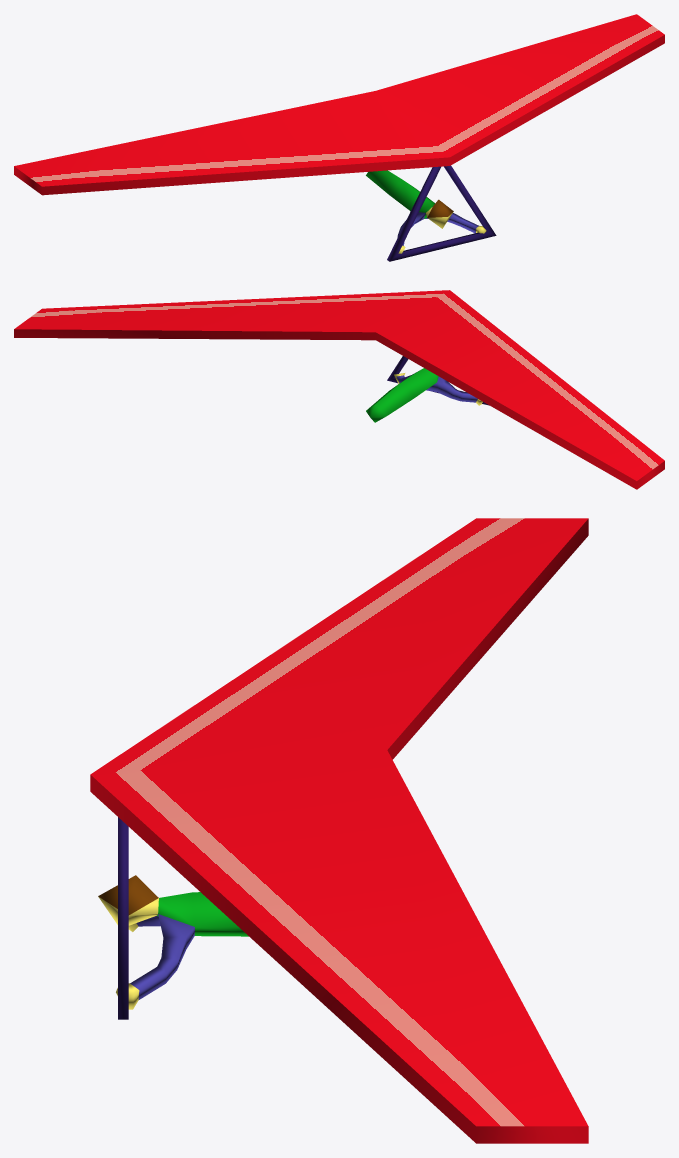
File: Glider.fbx
3 views of the same model, one above another, from view 1: azimuth 30°, elevation 25°; view 2: azimuth 150°, elevation 25°; view 3: azimuth 270°, elevation 25° (orthographic). The views are drawn at different scales.
Visible parts, largest first — view 1: Cube; view 2: Cube; view 3: Cube.
Boxes of the visible parts, x1,y1,x2,y2 form: Cube: (14,14,664,261); Cube: (14,290,664,489); Cube: (90,518,588,1143).
Size of the model in its own units: 33.77 by 97.5 by 16.52.
